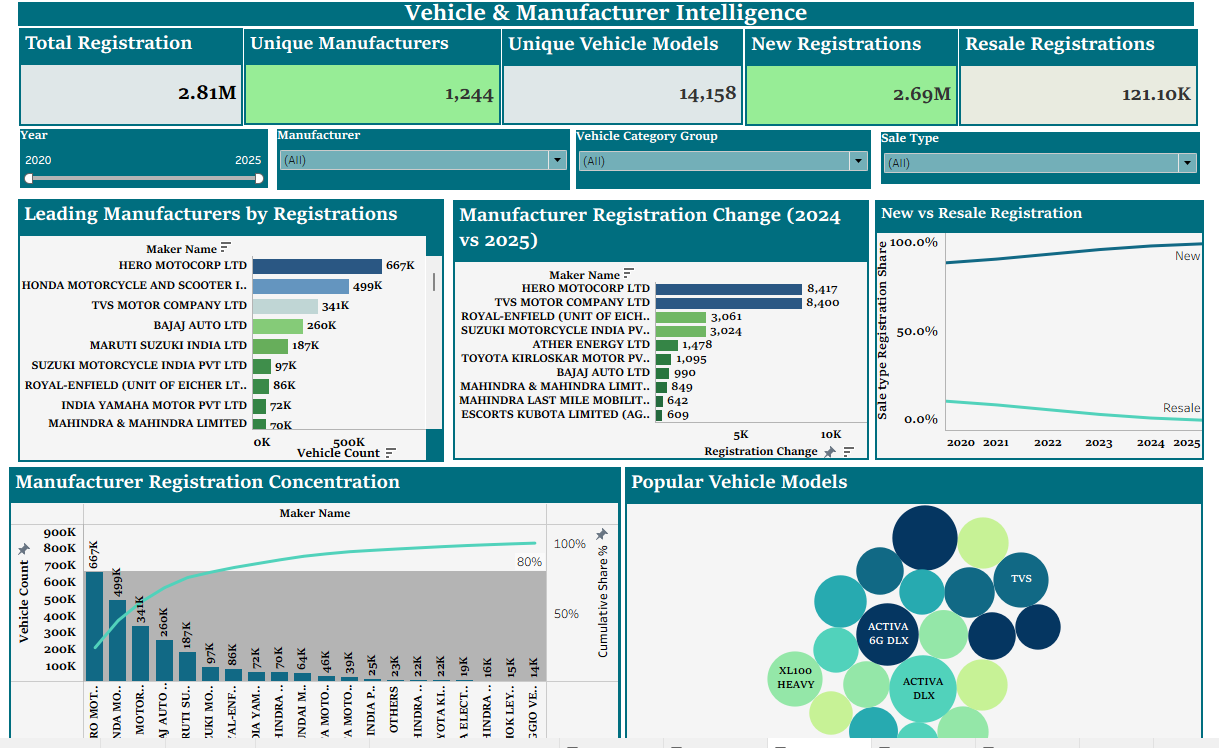

The page's visual inventory and layout, read from the dashboard file:
{"tool":"tableau","page":{"name":"Dashboard 3","canvas":[1200,1000],"ordinal":2},"visuals":[{"type":"title","box":[8,8,1184,32]},{"type":"worksheet","title":"Total Registration","mark":"Automatic","box":[13,38,224,98]},{"type":"worksheet","title":"Unique Manufacturers","mark":"Automatic","box":[238,39,257,96]},{"type":"worksheet","title":"Unique Vehicle Models","mark":"Automatic","box":[496,39,241,96]},{"type":"worksheet","title":"New","mark":"Automatic","box":[739,39,213,97]},{"type":"worksheet","title":"Resale Registrations","mark":"Automatic","box":[953,39,239,97]},{"type":"filter","title":"Manugacturers","param":"[federated.126gv5v0tedxz11cikqk708k748i].[none:registrationYear:qk]","box":[14,139,248,59]},{"type":"filter","title":"Manugacturers","param":"[federated.126gv5v0tedxz11cikqk708k748i].[none:makerName:nk]","box":[271,139,293,61]},{"type":"filter","title":"Manugacturers","param":"[federated.126gv5v0tedxz11cikqk708k748i].[none:Calculation_1106712995401733:nk]","box":[570,140,295,59]},{"type":"filter","title":"sale type comparison","param":"[federated.126gv5v0tedxz11cikqk708k748i].[none:saleType:nk]","box":[875,142,319,52]},{"type":"worksheet","title":"Manugacturers","mark":"Bar","rows":["makerName"],"cols":["vehicleCount"],"box":[12,209,426,263]},{"type":"worksheet","title":"Manufacturer regisrtation change","mark":"Bar","rows":["makerName"],"cols":["Calculation_1174882860658697"],"box":[447,210,416,260]},{"type":"worksheet","title":"sale type comparison","mark":"Line","cols":["registrationYear"],"box":[869,210,329,260]},{"type":"worksheet","title":"Manufacturer Concentration","mark":"Bar","rows":["vehicleCount","Calculation_1174882863906827"],"cols":["makerName"],"box":[3,477,612,297]},{"type":"worksheet","title":"popular vehicle model","mark":"Circle","box":[619,477,578,300]}]}

Visuals, with their boxes on the page's 1200x1000 design canvas (x1, y1, x2, y2). These are canvas units, not pixel positions in the 1219x748 screenshot, which may show the page scaled, cropped or inside an application window:
title: <box>8,8,1192,40</box>
"Total Registration" worksheet: <box>13,38,237,136</box>
"Unique Manufacturers" worksheet: <box>238,39,495,135</box>
"Unique Vehicle Models" worksheet: <box>496,39,737,135</box>
"New" worksheet: <box>739,39,952,136</box>
"Resale Registrations" worksheet: <box>953,39,1192,136</box>
"Manugacturers" filter: <box>14,139,262,198</box>
"Manugacturers" filter: <box>271,139,564,200</box>
"Manugacturers" filter: <box>570,140,865,199</box>
"sale type comparison" filter: <box>875,142,1194,194</box>
"Manugacturers" worksheet (Bar marks): <box>12,209,438,472</box>
"Manufacturer regisrtation change" worksheet (Bar marks): <box>447,210,863,470</box>
"sale type comparison" worksheet (Line marks): <box>869,210,1198,470</box>
"Manufacturer Concentration" worksheet (Bar marks): <box>3,477,615,774</box>
"popular vehicle model" worksheet (Circle marks): <box>619,477,1197,777</box>
